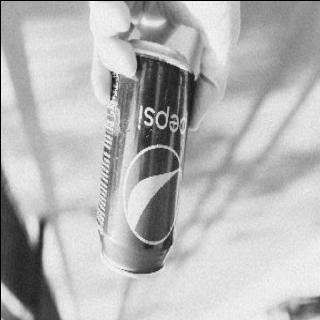alumunium_can: (94, 38, 192, 278)
